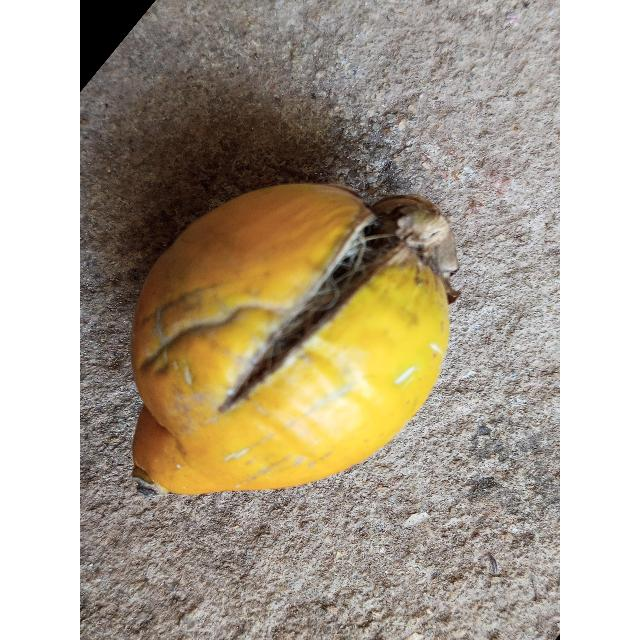damaged: (130, 183, 455, 499)
